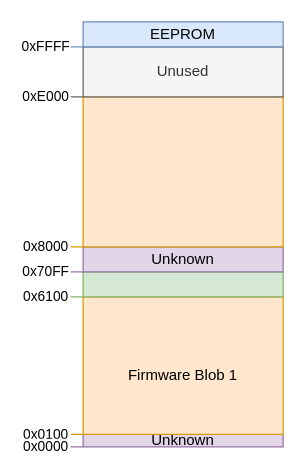
Some shapes in this 305 by 476 pixel diagram are drawn without their labels. The shapes that lost their labels are listed below. From the top down, each one's box as (x1, y1, x2, y2) in pixels, then its label:
(82, 96, 283, 247): Firmware Blob 2
(82, 271, 283, 297): PMW3360 Blob
